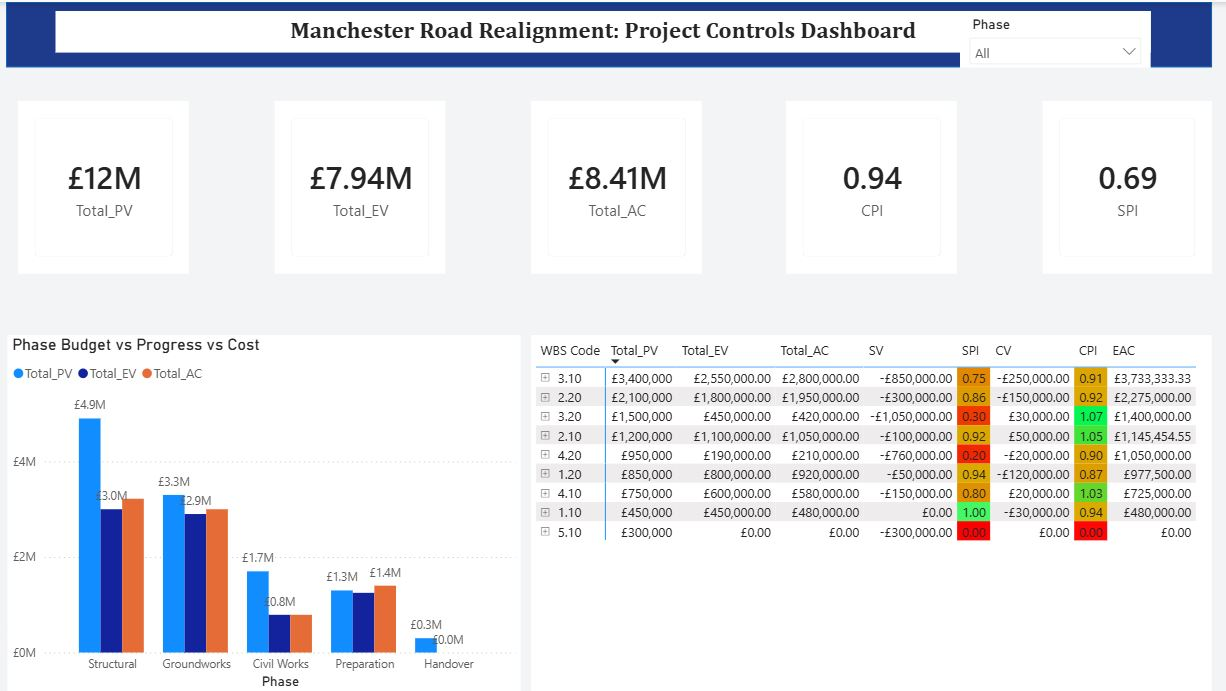

Layout of this report page (visuals, bound fields, positions):
{"tool":"powerbi","page":{"name":"Page 1","canvas":[1280,720],"ordinal":0},"visuals":[{"type":"shape","box":[9.4,0,1256.7,68],"z":0},{"type":"textbox","box":[60.5,9.4,1141.4,43.5],"z":1000},{"type":"slicer","fields":{"Values":["Sheet1.Phase"]},"box":[1003.4,9.4,198.5,59.4],"z":2000},{"type":"cardVisual","fields":{"Data":["Sheet1.Total_AC"]},"box":[555.6,103.2,178.2,179.7],"z":3000},{"type":"cardVisual","fields":{"Data":["Sheet1.Total_EV"]},"box":[288.8,103.2,178.2,179.7],"z":4000},{"type":"cardVisual","fields":{"Data":["Sheet1.CPI"]},"box":[822.5,103.2,178.2,179.7],"z":5000},{"type":"cardVisual","fields":{"Data":["Sheet1.SPI"]},"box":[1089.4,103.2,176.6,179.7],"z":6000},{"type":"pivotTable","fields":{"Rows":["Sheet1.WBS Code","Sheet1.Work Package"],"Values":["Sheet1.Total_PV","Sheet1.Total_EV","Sheet1.Total_AC","Sheet1.SV","Sheet1.SPI","Sheet1.CV","Sheet1.CPI","Sheet1.EAC"]},"box":[556.4,347,709.6,373.6],"z":7000},{"type":"clusteredColumnChart","title":"Phase Budget vs Progress vs Cost","fields":{"Category":["Sheet1.Phase"],"Y":["Sheet1.Total_PV","Sheet1.Total_EV","Sheet1.Total_AC"]},"box":[10.9,347,534.5,373.6],"z":8000},{"type":"cardVisual","fields":{"Data":["Sheet1.Total_PV"]},"box":[21.9,103.2,178.2,179.7],"z":9000}]}

Visuals, with their boxes in screenshot pixels (x1, y1, x2, y2), scaled from the page's 1280x720 canvas onto the 1226x691 screenshot:
shape: 9:0:1213:65
textbox: 58:9:1151:51
slicer - Sheet1.Phase: 961:9:1151:66
cardVisual - Sheet1.Total_AC: 532:99:703:272
cardVisual - Sheet1.Total_EV: 277:99:447:272
cardVisual - Sheet1.CPI: 788:99:958:272
cardVisual - Sheet1.SPI: 1043:99:1213:272
pivotTable - Sheet1.WBS Code x Sheet1.Work Package: 533:333:1213:690
"Phase Budget vs Progress vs Cost" clusteredColumnChart: 10:333:522:690
cardVisual - Sheet1.Total_PV: 21:99:192:272
